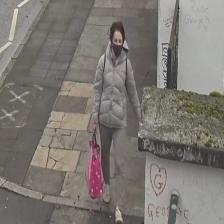person: (92, 19, 140, 222)
